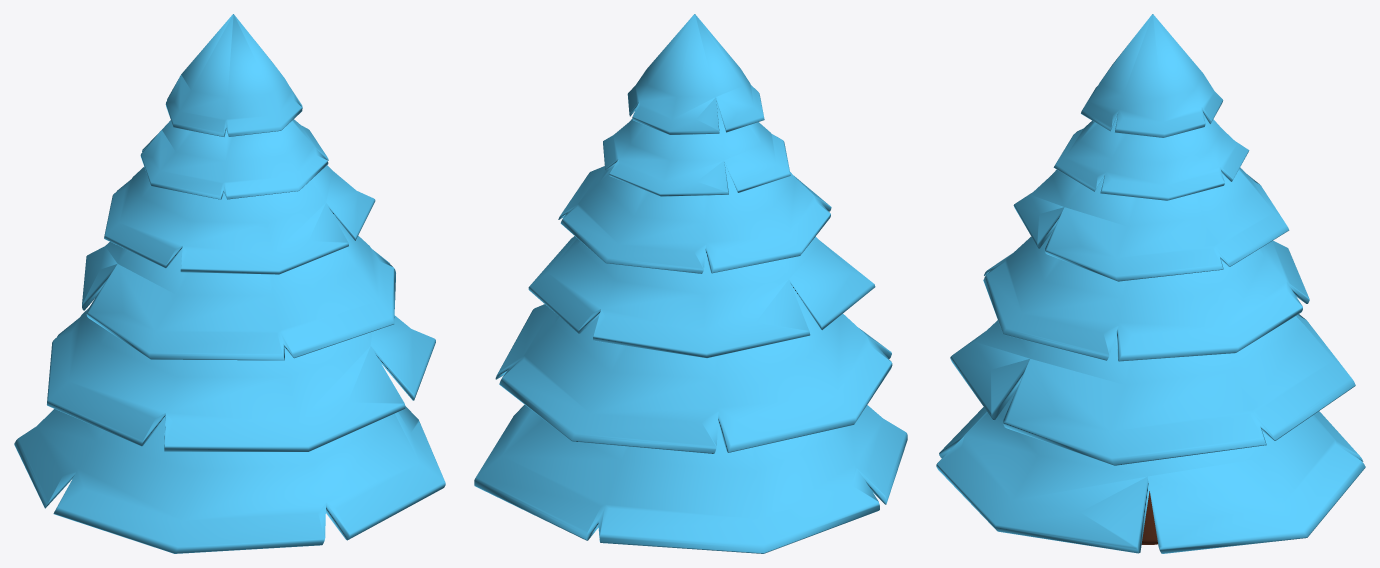
Rendered from Baum.001-Blau.fbx.
3 views of the same model, side by side, from view 1: azimuth 30°, elevation 25°; view 2: azimuth 150°, elevation 25°; view 3: azimuth 270°, elevation 25° (orthographic).
Visible parts, largest first — view 1: Baum.001; view 2: Baum.001; view 3: Baum.001.
Boxes of the visible parts, bbox=[...] form: Baum.001: bbox=[14, 14, 445, 553]; Baum.001: bbox=[474, 14, 907, 553]; Baum.001: bbox=[936, 14, 1365, 553].
Bounding box in the file's own units: 150 × 200 × 150.
